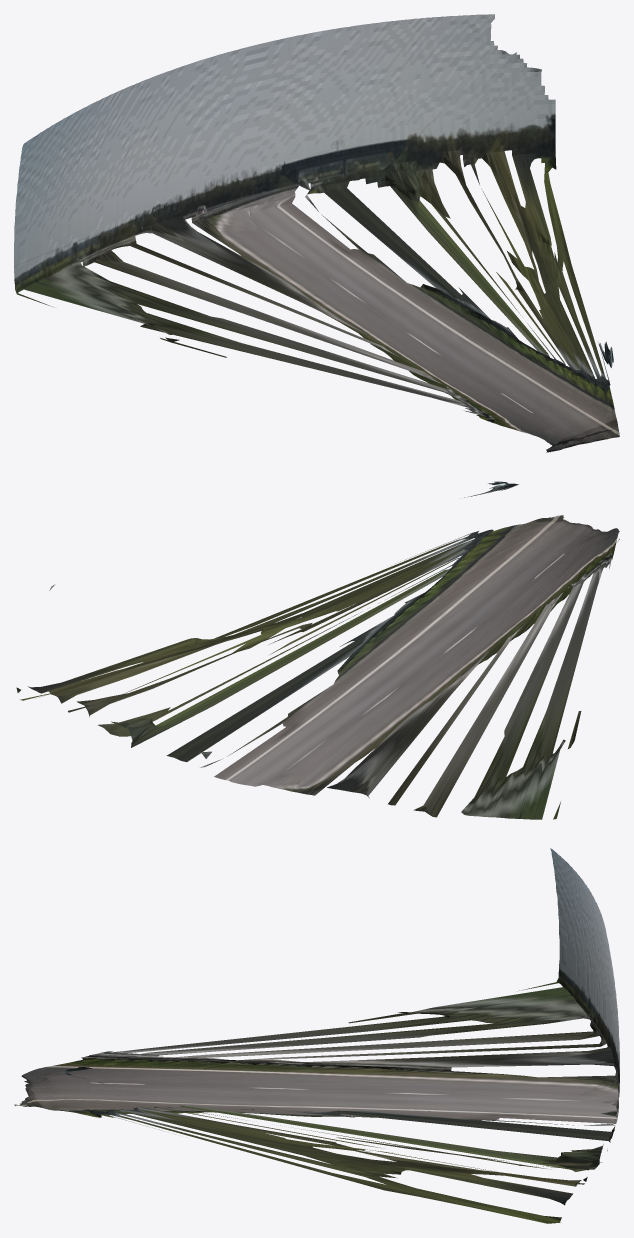
3 renders of one model, top to bottom at view 1: azimuth 30°, elevation 25°; view 2: azimuth 150°, elevation 25°; view 3: azimuth 270°, elevation 25°, orthographic. The views are drawn at different scales.
Parts seen in each view (by area): view 1: defaultobject; view 2: defaultobject; view 3: defaultobject.
Boxes of the visible parts, x1,y1,x2,y2 form: defaultobject: [14, 14, 619, 452]; defaultobject: [16, 481, 619, 819]; defaultobject: [14, 848, 619, 1223].
Bounding box in the file's own units: 41.14 × 12.81 × 44.77.
1 material, 1 textured.
